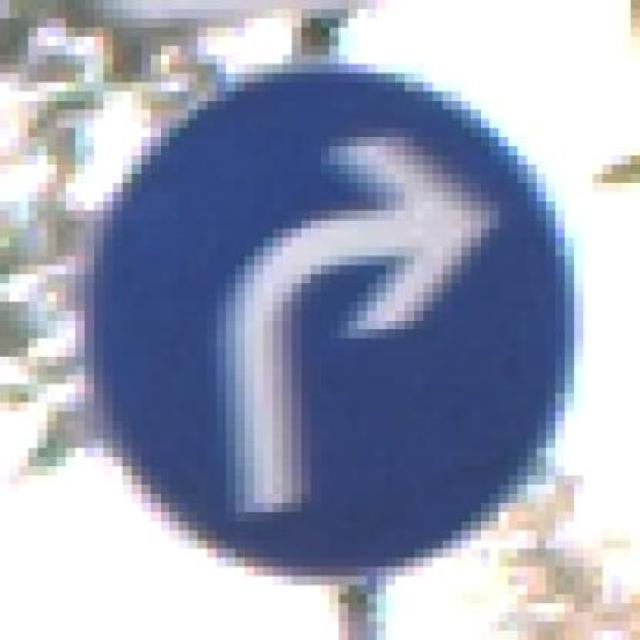Turn right ahead: (56, 46, 584, 603)
